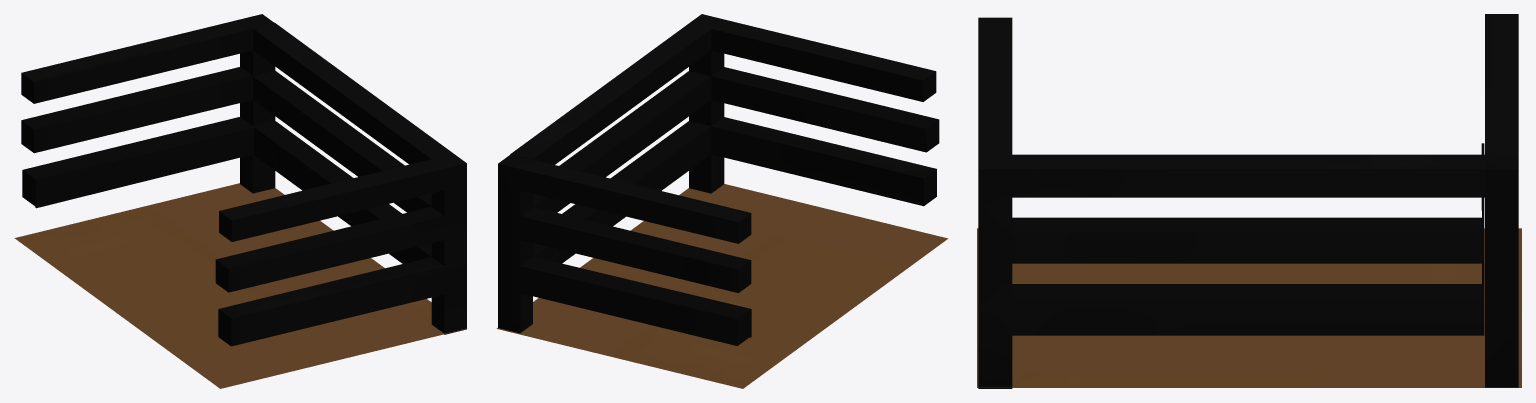
Rendered from backony.dae.
3 views of the same model, side by side, from view 1: azimuth 30°, elevation 25°; view 2: azimuth 150°, elevation 25°; view 3: azimuth 270°, elevation 25° (orthographic). The views are drawn at different scales.
Parts seen in each view (by area): view 1: Plane; view 2: Plane; view 3: Plane.
Boxes of the visible parts, box(x1,y1,x2,y2) form: Plane: box(14, 14, 466, 388); Plane: box(496, 14, 948, 388); Plane: box(977, 14, 1521, 388).
Size of the model in its own units: 1.39 by 2 by 0.8903.
Materials: 1 (1 with a texture image).
